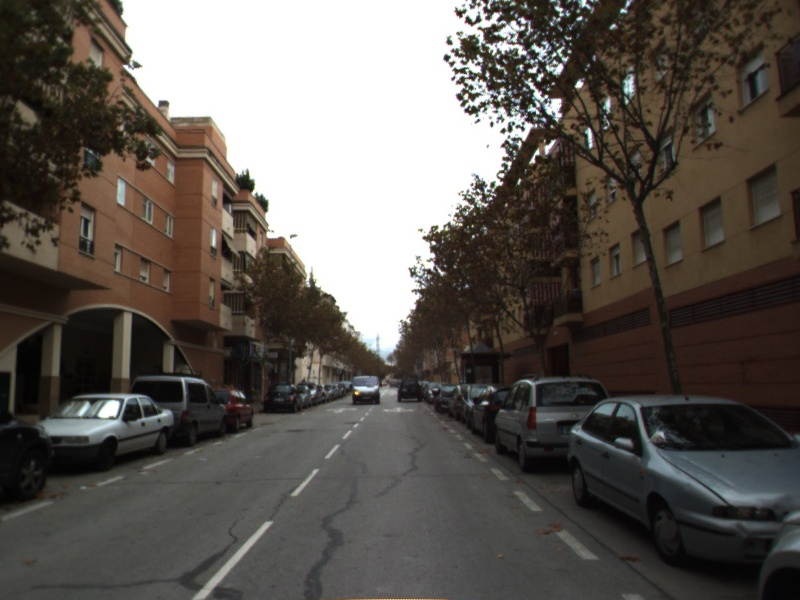STRAIGHT_LEFT_RIGHT: (381, 405, 418, 415)
